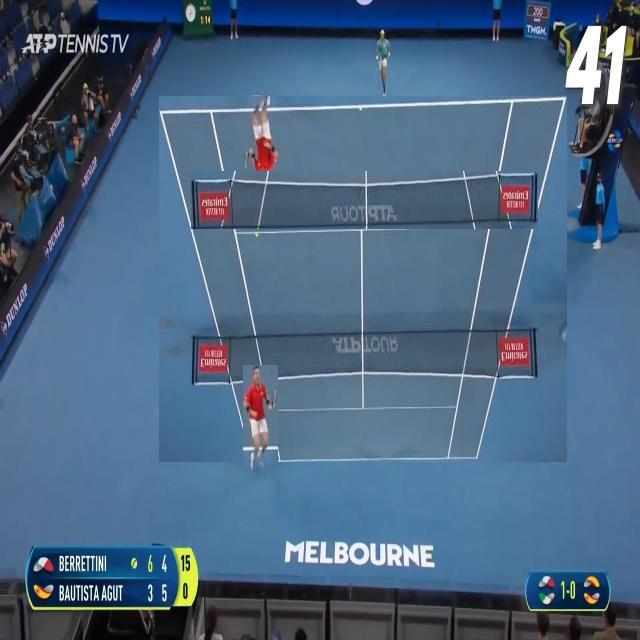court: (159, 96, 567, 462)
net: (191, 171, 538, 229)
player: (243, 365, 278, 473)
